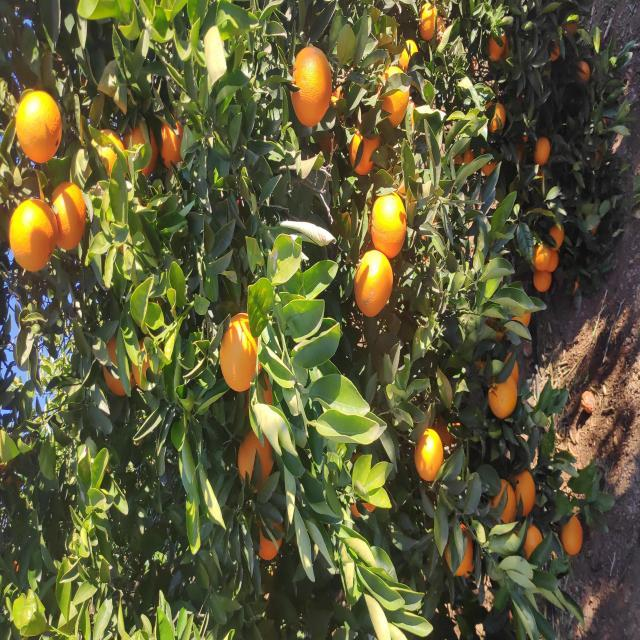Jeruk Sudah Matang: (369, 8, 441, 58), (248, 219, 328, 264), (512, 290, 594, 332), (478, 15, 550, 62), (324, 354, 391, 393), (391, 49, 458, 86), (383, 371, 450, 407), (148, 238, 213, 274), (456, 85, 512, 126), (511, 374, 574, 410), (244, 102, 306, 136), (462, 124, 522, 158), (466, 348, 518, 382), (248, 132, 304, 162), (470, 160, 534, 186), (159, 414, 212, 444), (65, 444, 116, 473), (110, 488, 162, 516), (79, 259, 137, 284), (222, 488, 268, 518), (122, 510, 172, 536), (80, 516, 116, 542), (86, 561, 126, 583), (600, 418, 638, 438), (568, 398, 600, 418), (369, 532, 398, 552), (505, 489, 537, 506), (254, 503, 289, 518), (389, 546, 418, 564), (580, 488, 609, 506), (349, 533, 376, 552), (476, 533, 504, 550), (312, 511, 329, 531), (556, 576, 580, 590), (368, 546, 390, 558), (464, 482, 482, 496), (579, 550, 599, 560), (476, 463, 492, 475), (476, 454, 486, 463)
